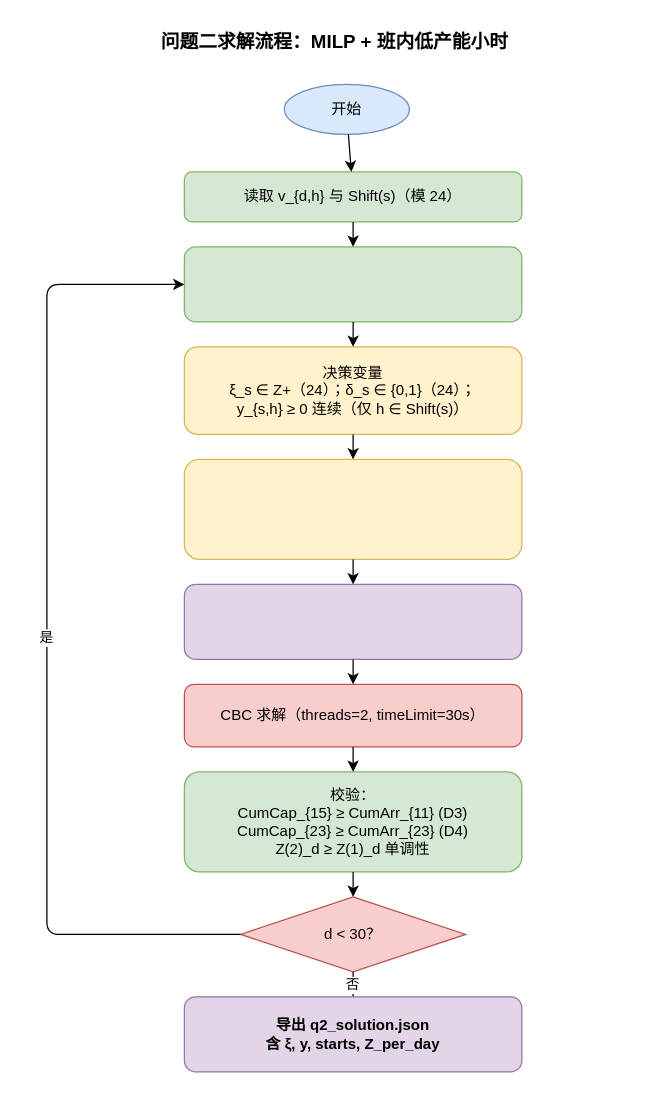
Some shapes in this 668 by 1094 pixel diagram are drawn without their labels. Here are the shapes that lost their labels. From the top down, the centre of each, then its label:
At (352,284): "对每日 d ∈ {1..30}： 构造 PuLP MILP".
At (352,508): "约束 ∑δ = 5 (恰 5 起点) ∑_{h∈Shift(s)} y_{s,h} = ξ_s 累计 Cap_h ≥ 累计 v_h ∀H".
At (352,621): "Cap_h 公式 25·∑_s A_{s,h} ξ_s − 15·∑_s y_{s,h}".
